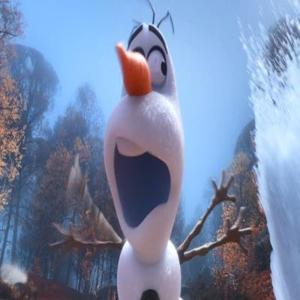olaf: (95, 5, 209, 294)
